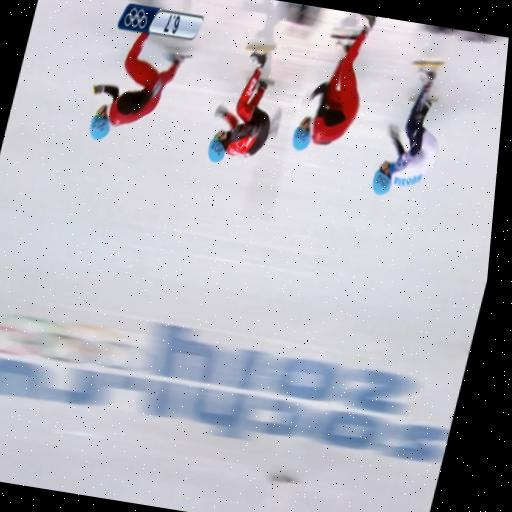Skater: (292, 14, 375, 150), (89, 33, 189, 139), (372, 61, 440, 194), (207, 45, 281, 161)
